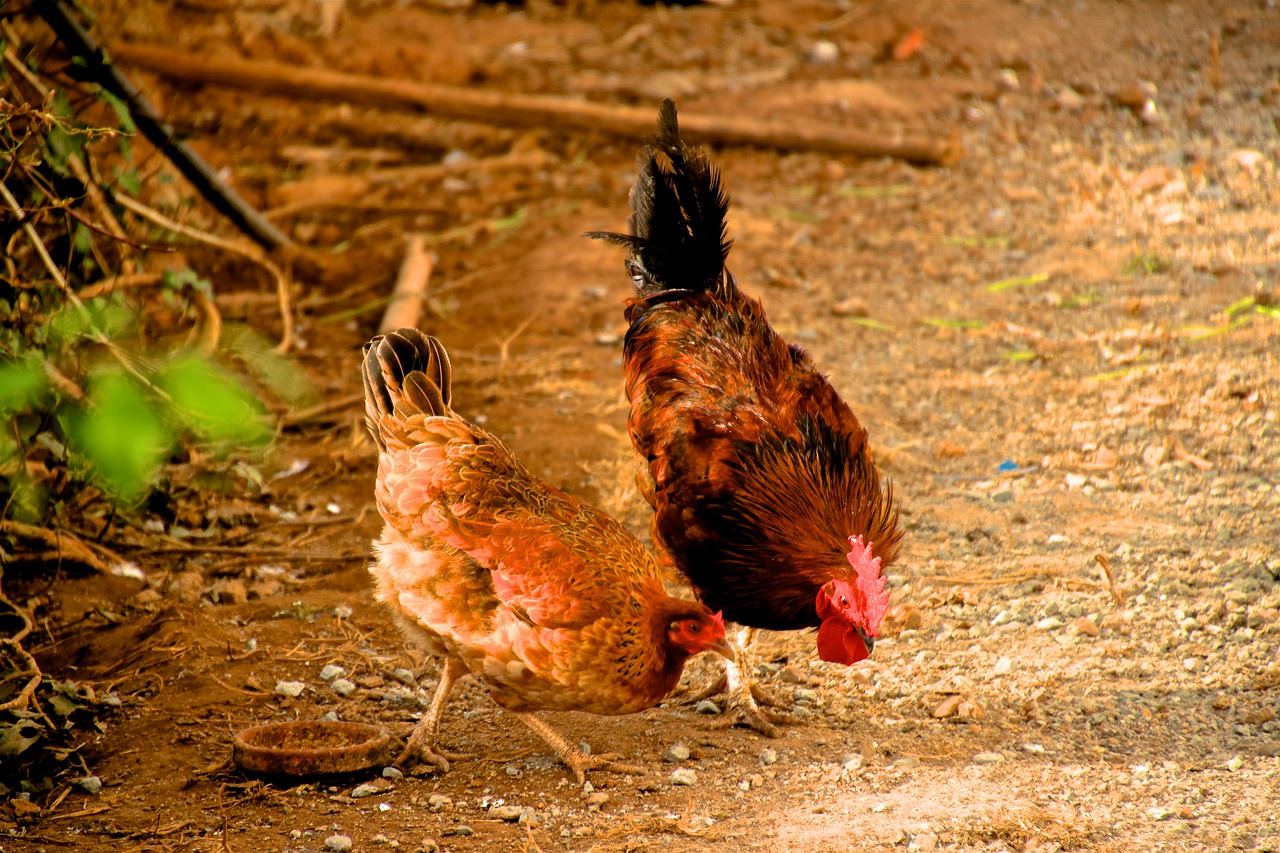chicken: (603, 93, 956, 700), (332, 308, 756, 776)
